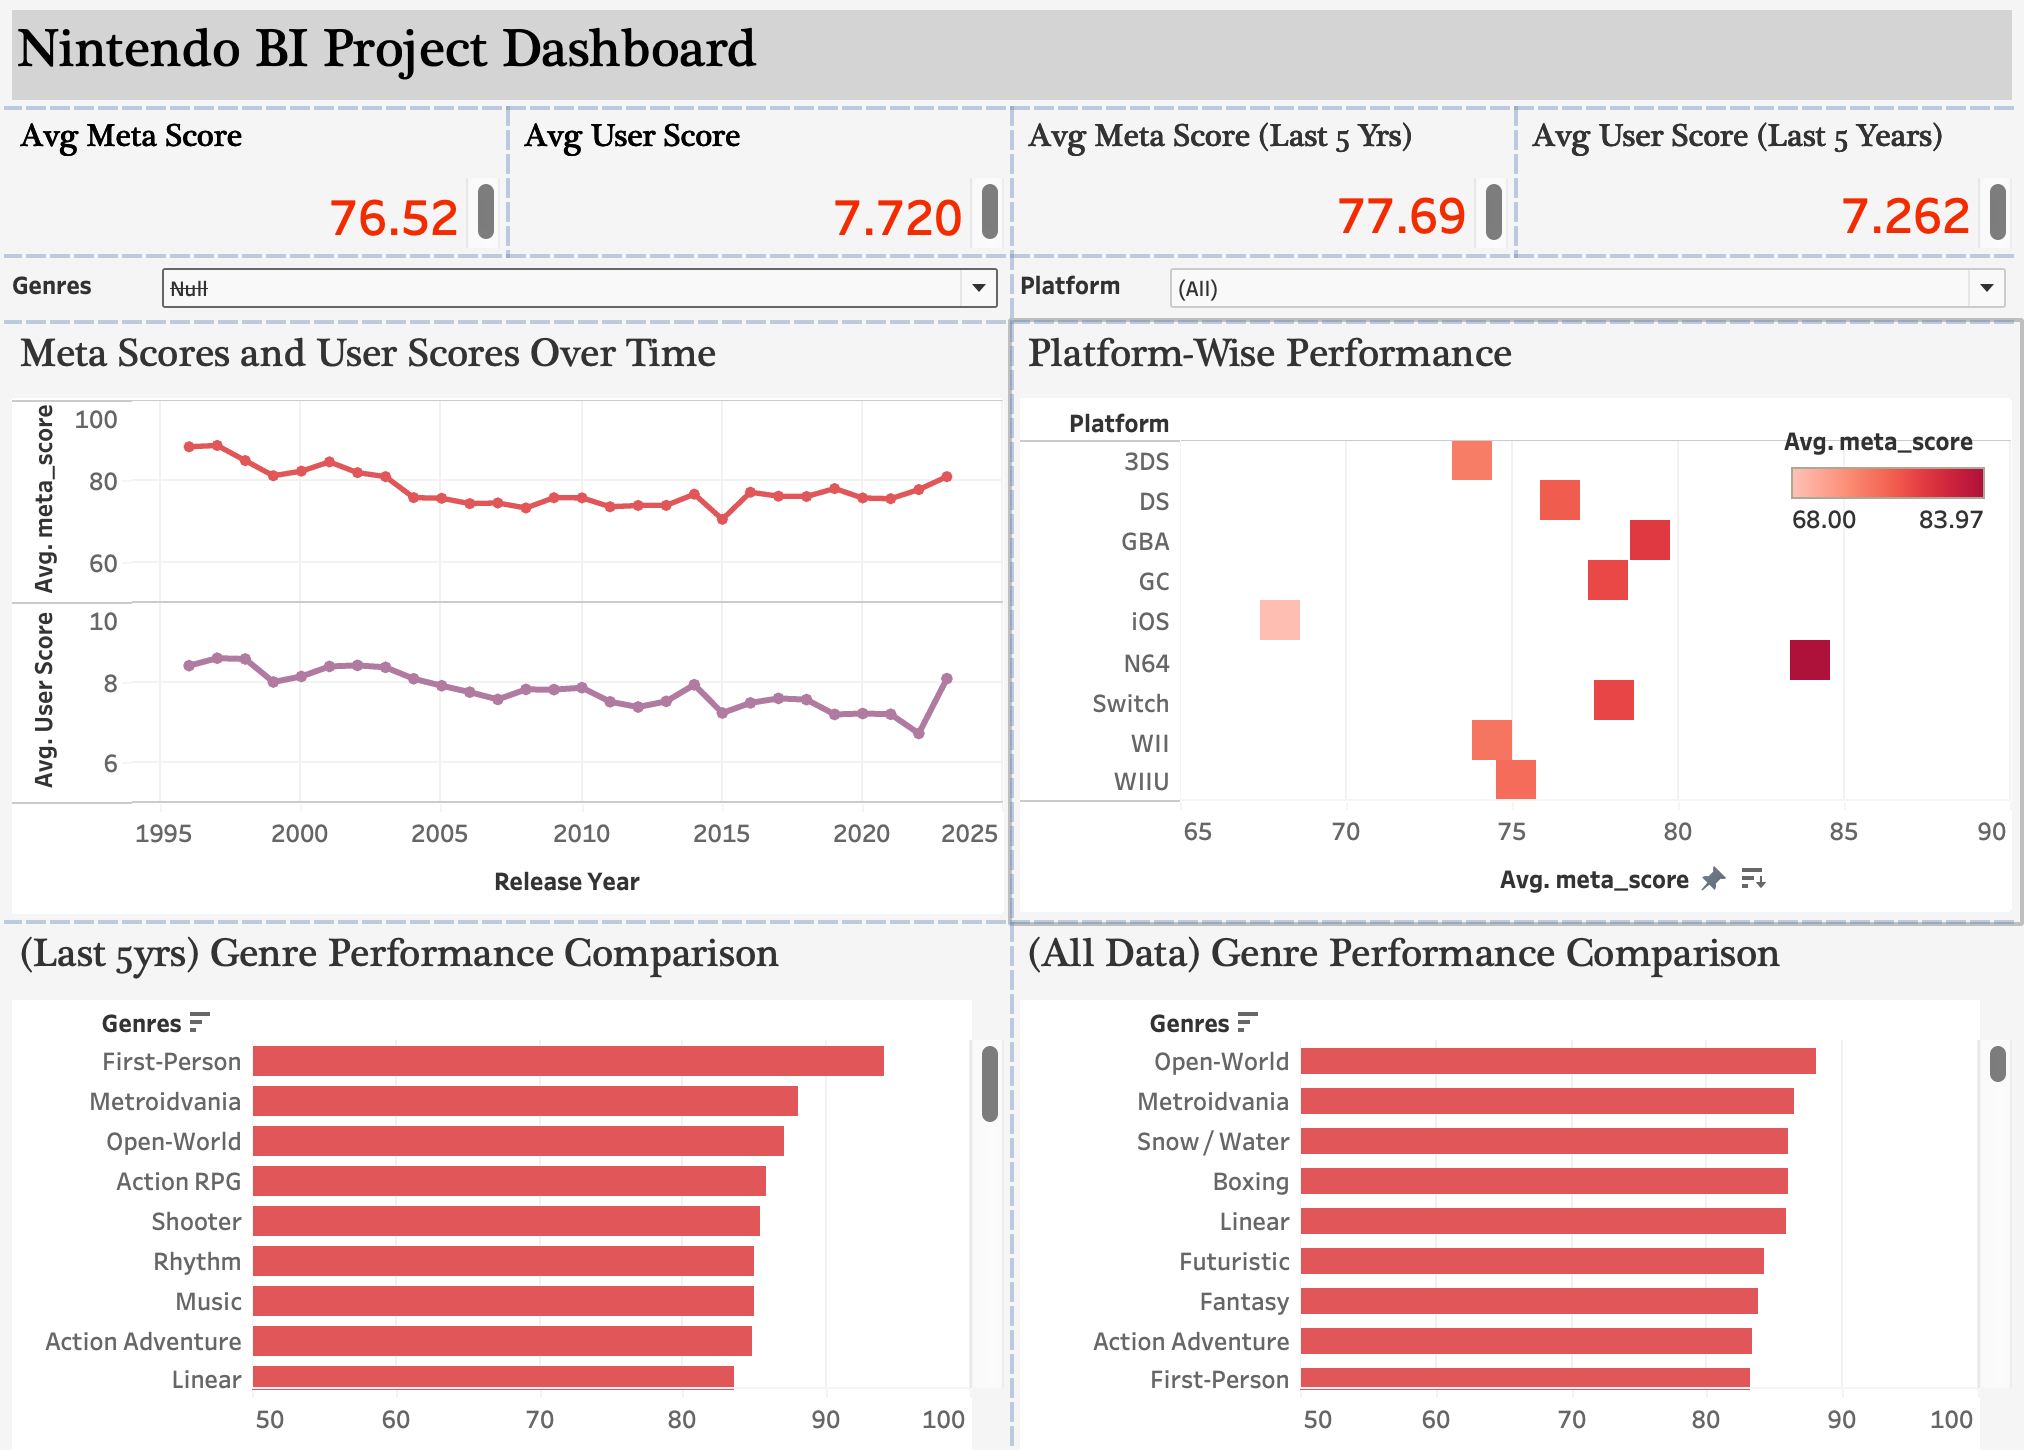

This screenshot's page, from the dashboard's own definition file:
{"tool":"tableau","page":{"name":"Nintendo Bi Project Dashboard","canvas":[1024,768],"ordinal":0},"visuals":[{"type":"text","box":[8,8,1008,53]},{"type":"worksheet","title":"Avg Meta Score","mark":"Automatic","box":[8,61,252,74]},{"type":"worksheet","title":"Avg User Score","mark":"Automatic","box":[260,61,252,74]},{"type":"worksheet","title":"Avg Meta Score (Last 5 Years)","mark":"Automatic","box":[512,61,252,74]},{"type":"worksheet","title":"Avg User Score (Last 5 Years)","mark":"Automatic","box":[764,61,252,74]},{"type":"filter","title":"(Last 5yrs) Genre Performance Comparison","param":"[federated.1tk87w817lyew21h9i1380ozbij6].[none:genres:nk]","box":[8,135,504,33]},{"type":"filter","title":"Platform-Wise Performance","param":"[federated.0ny3m1h12hzgrj1dcd2ds0oq2b4i].[none:platform:nk]","box":[512,135,504,33]},{"type":"worksheet","title":"Meta Scores and User Scores Over Time","mark":"Line","rows":["meta_score","user_score"],"cols":["release_year"],"box":[8,168,504,300]},{"type":"worksheet","title":"Platform-Wise Performance","mark":"Square","rows":["platform"],"cols":["meta_score"],"box":[512,168,504,300]},{"type":"legend","title":"Platform-Wise Performance","param":"[federated.0ny3m1h12hzgrj1dcd2ds0oq2b4i].[avg:meta_score:qk]","box":[898,219,105,56]},{"type":"worksheet","title":"(Last 5yrs) Genre Performance Comparison","mark":"Automatic","rows":["genres"],"cols":["meta_score"],"box":[8,468,504,292]},{"type":"worksheet","title":"(All Data) Genre Performance Comparison","mark":"Automatic","rows":["genres"],"cols":["meta_score"],"box":[512,468,504,292]}]}

Visuals, with their boxes on the page's 1024x768 design canvas (x1, y1, x2, y2). These are canvas units, not pixel positions in the 2024x1450 screenshot, which may show the page scaled, cropped or inside an application window:
text: select_region(8, 8, 1016, 61)
"Avg Meta Score" worksheet: select_region(8, 61, 260, 135)
"Avg User Score" worksheet: select_region(260, 61, 512, 135)
"Avg Meta Score (Last 5 Years)" worksheet: select_region(512, 61, 764, 135)
"Avg User Score (Last 5 Years)" worksheet: select_region(764, 61, 1016, 135)
"(Last 5yrs) Genre Performance Comparison" filter: select_region(8, 135, 512, 168)
"Platform-Wise Performance" filter: select_region(512, 135, 1016, 168)
"Meta Scores and User Scores Over Time" worksheet (Line marks): select_region(8, 168, 512, 468)
"Platform-Wise Performance" worksheet (Square marks): select_region(512, 168, 1016, 468)
"Platform-Wise Performance" legend: select_region(898, 219, 1003, 275)
"(Last 5yrs) Genre Performance Comparison" worksheet: select_region(8, 468, 512, 760)
"(All Data) Genre Performance Comparison" worksheet: select_region(512, 468, 1016, 760)
